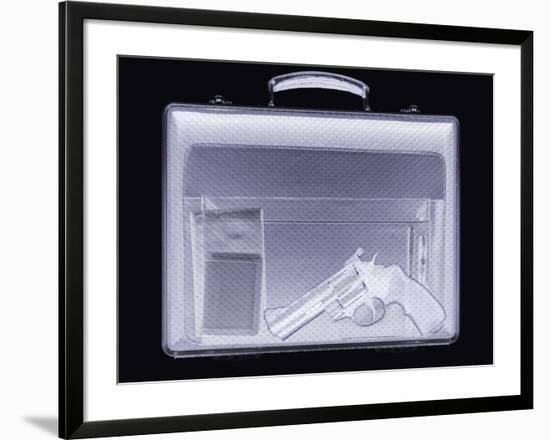gun: (266, 245, 446, 341)
